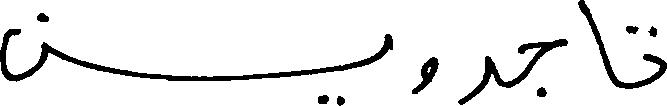X: (0, 8, 46, 86), (579, 0, 617, 91), (518, 34, 566, 101), (458, 51, 492, 105), (644, 21, 666, 90), (417, 52, 438, 98), (381, 29, 391, 62)
